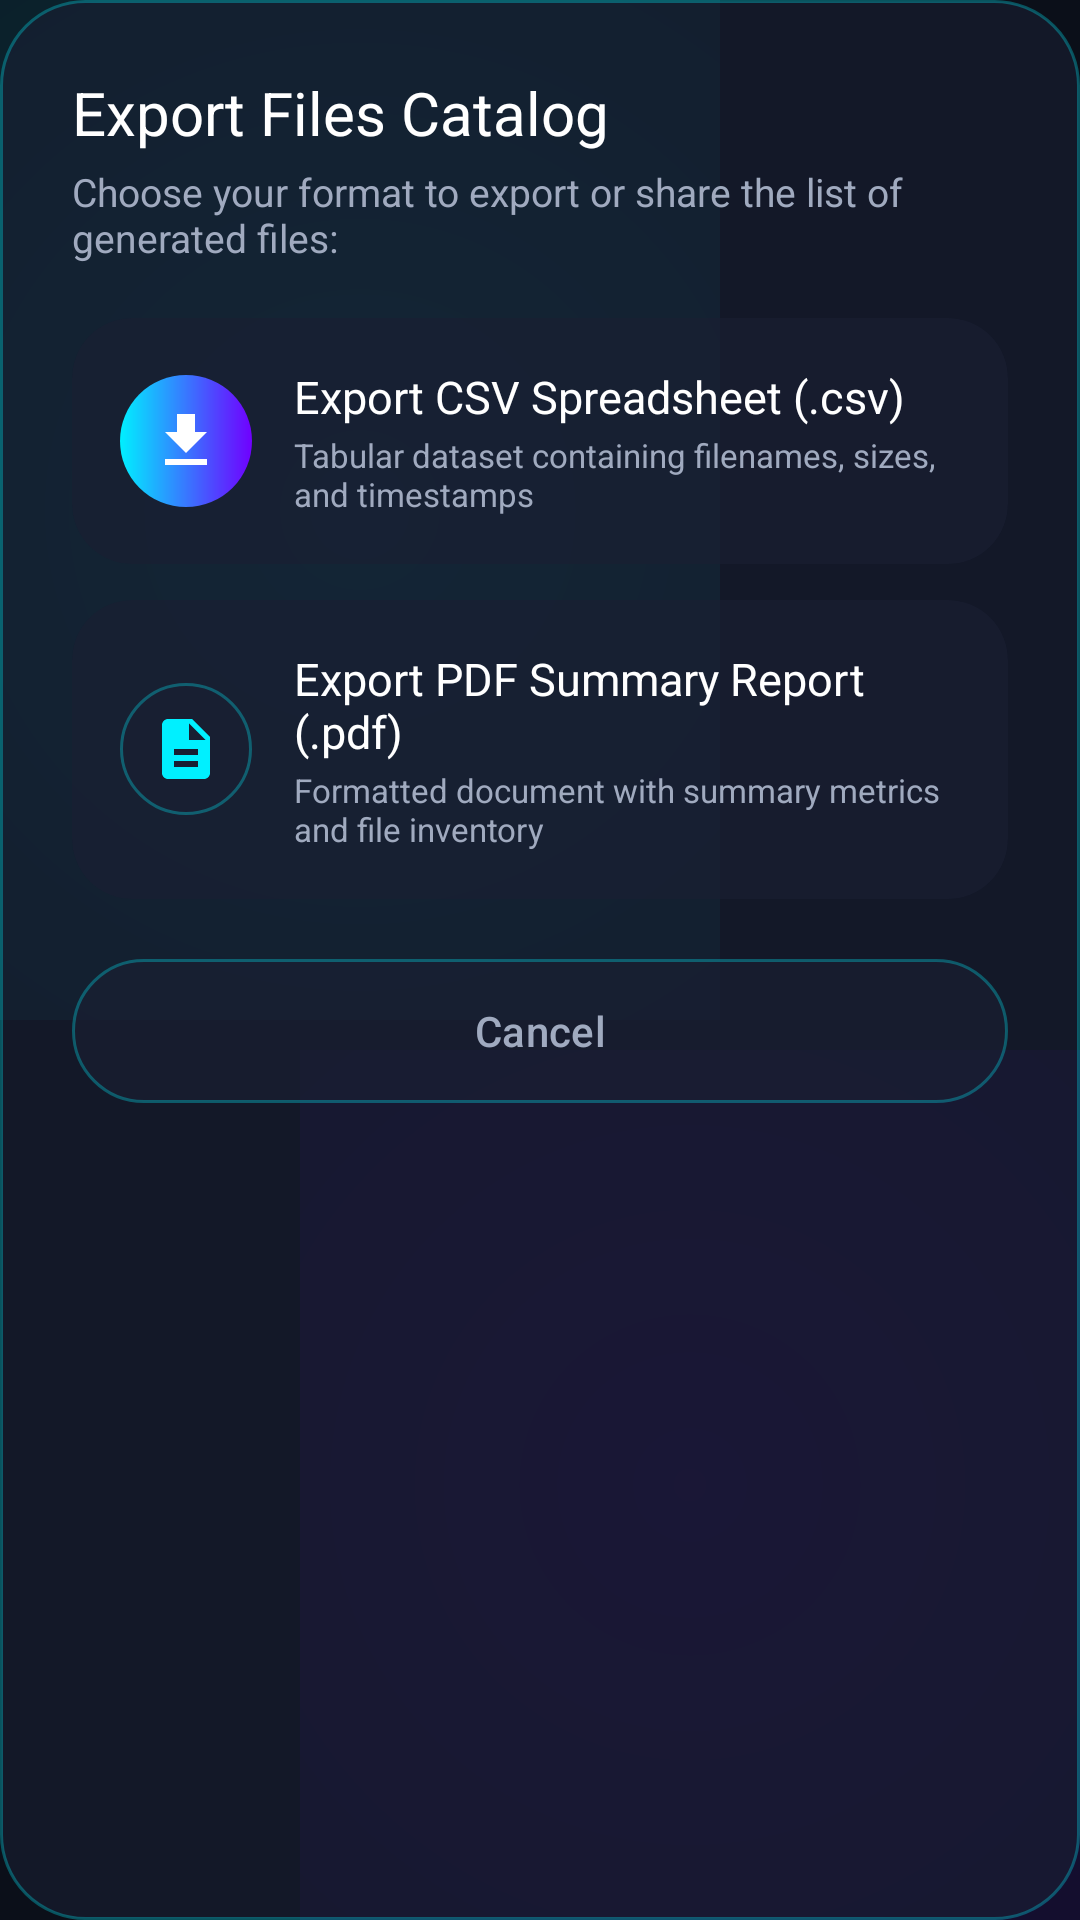

Point at icon controls on the screen. Image size 1080px×1920px, points as point (x, y).
files: point (186, 749)
